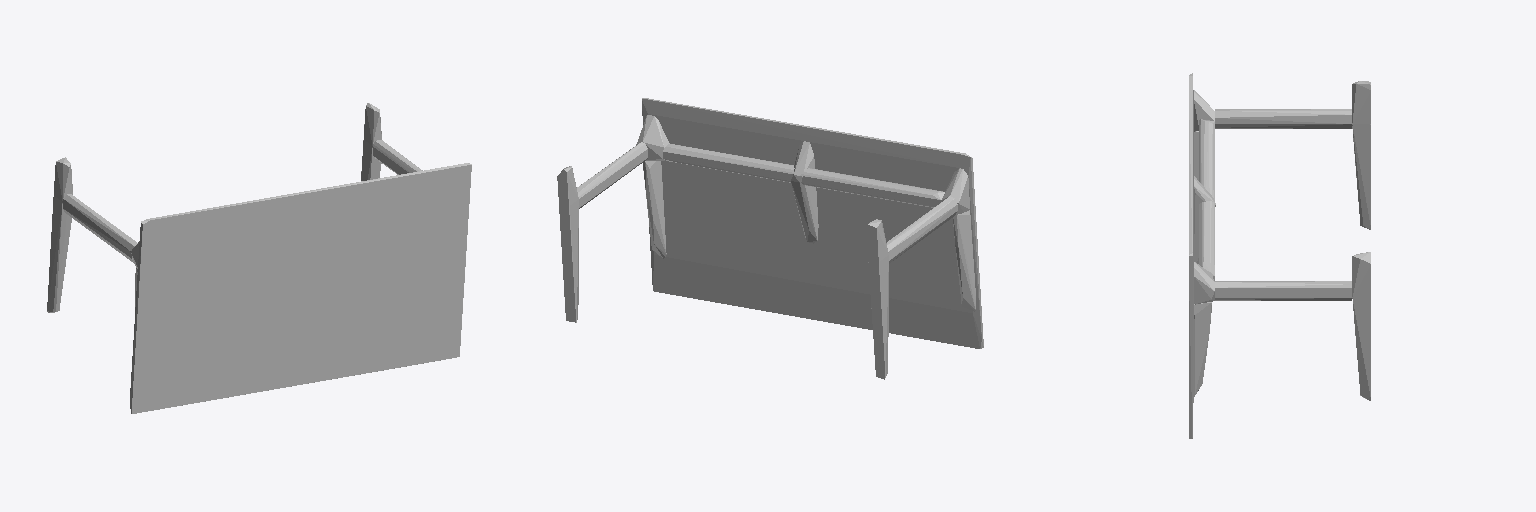
3 views of the same model, side by side, from view 1: azimuth 30°, elevation 25°; view 2: azimuth 150°, elevation 25°; view 3: azimuth 270°, elevation 25° (orthographic).
Visible parts, largest first — view 1: convex_0, convex_4, convex_5, convex_2, convex_3; view 2: convex_0, convex_10, convex_4, convex_2, convex_1, convex_8, convex_5, convex_6, convex_3, convex_7, convex_9; view 3: convex_3, convex_5, convex_4, convex_2, convex_10, convex_0, convex_6, convex_7, convex_1.
Part boxes in pixels (bbox=[...]): convex_0: bbox=[130, 163, 471, 413]; convex_4: bbox=[47, 157, 72, 312]; convex_5: bbox=[63, 194, 137, 262]; convex_2: bbox=[361, 103, 381, 180]; convex_3: bbox=[373, 140, 422, 174]; convex_0: bbox=[642, 98, 983, 348]; convex_10: bbox=[663, 144, 944, 207]; convex_4: bbox=[866, 219, 888, 379]; convex_2: bbox=[557, 166, 578, 322]; convex_1: bbox=[791, 141, 818, 243]; convex_8: bbox=[953, 210, 975, 311]; convex_5: bbox=[887, 196, 957, 263]; convex_6: bbox=[643, 161, 666, 258]; convex_3: bbox=[577, 142, 647, 208]; convex_7: bbox=[636, 115, 669, 160]; convex_9: bbox=[941, 168, 969, 214]; convex_3: bbox=[1215, 281, 1351, 300]; convex_5: bbox=[1215, 109, 1351, 128]; convex_4: bbox=[1352, 81, 1370, 229]; convex_2: bbox=[1352, 252, 1370, 400]; convex_10: bbox=[1199, 119, 1214, 280]; convex_0: bbox=[1189, 73, 1193, 438]; convex_6: bbox=[1194, 302, 1211, 396]; convex_7: bbox=[1194, 262, 1214, 304]; convex_1: bbox=[1194, 176, 1215, 263].
Bounding box in the file's own units: 1.4 × 0.8363 × 0.6533.